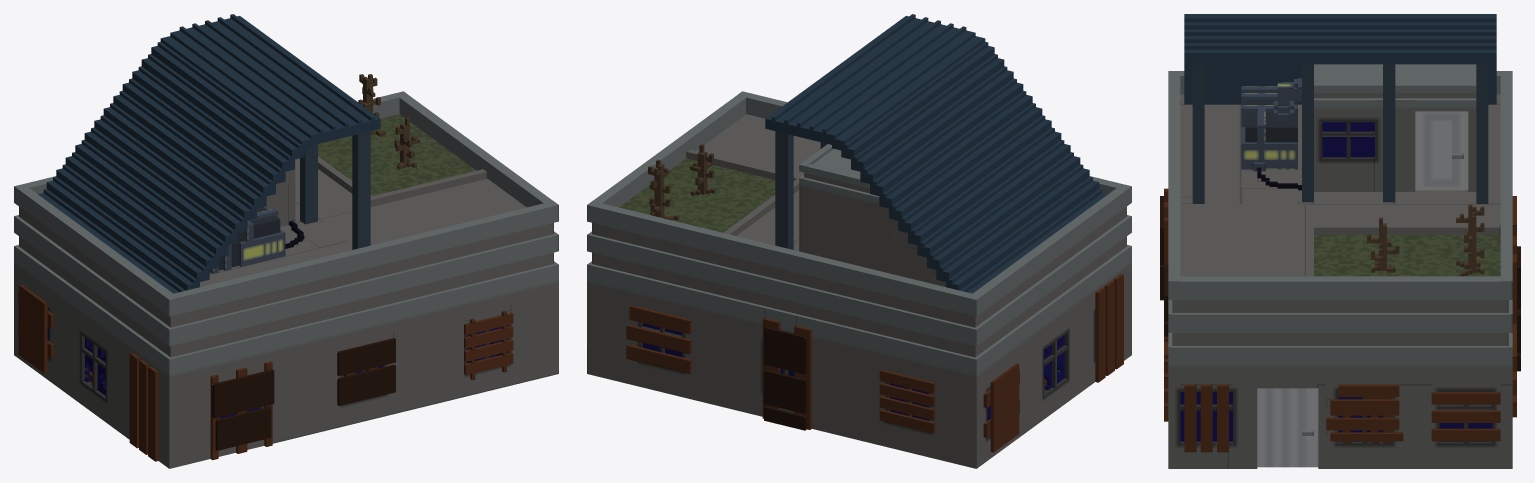
The model's file is klinika.dae.
The picture shows the model from 3 angles, left to right: view 1: azimuth 30°, elevation 25°; view 2: azimuth 150°, elevation 25°; view 3: azimuth 270°, elevation 25°; orthographic projection. The views are drawn at different scales.
Parts seen in each view (by area): view 1: Content; view 2: Content; view 3: Content.
Part boxes in pixels (left/top/right/bottom): Content: left=14, top=14, right=558, bottom=468; Content: left=587, top=14, right=1131, bottom=468; Content: left=1160, top=14, right=1520, bottom=468.
Size of the model in its own units: 126 by 89 by 89.
1 material, 1 textured.
